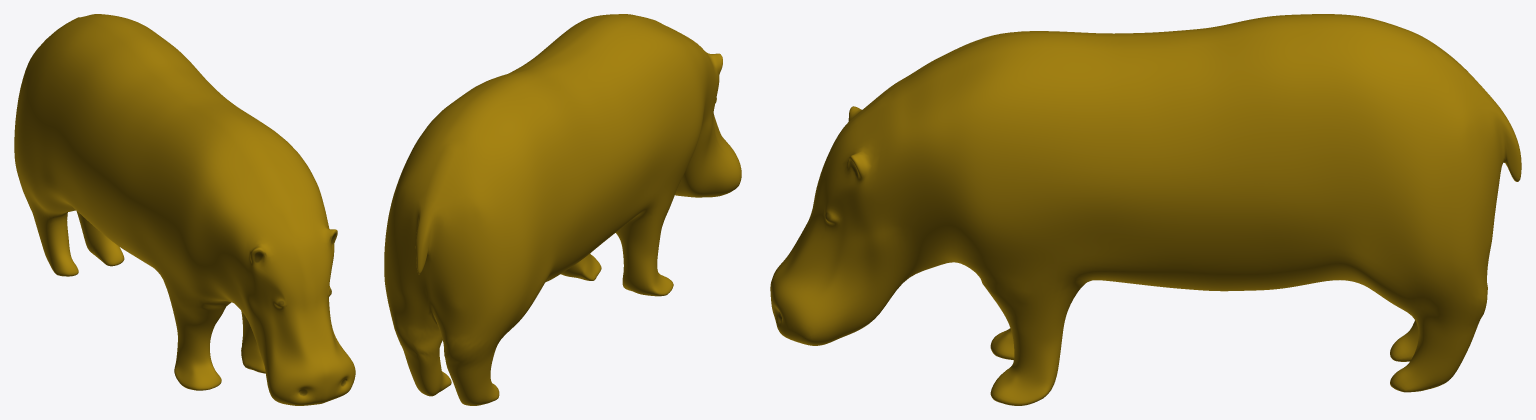
Rendered from Hippo.obj.
3 renders of one model, left to right at view 1: azimuth 30°, elevation 25°; view 2: azimuth 150°, elevation 25°; view 3: azimuth 270°, elevation 25°, orthographic. The views are drawn at different scales.
Visible parts, largest first — view 1: Hippo_Cube; view 2: Hippo_Cube; view 3: Hippo_Cube.
Part boxes in pixels (x1,y1,x2,y2): Hippo_Cube: [14, 14, 355, 405]; Hippo_Cube: [384, 14, 741, 405]; Hippo_Cube: [770, 14, 1521, 405].
Bounding box in the file's own units: 1.46 × 2.7 × 5.17.
